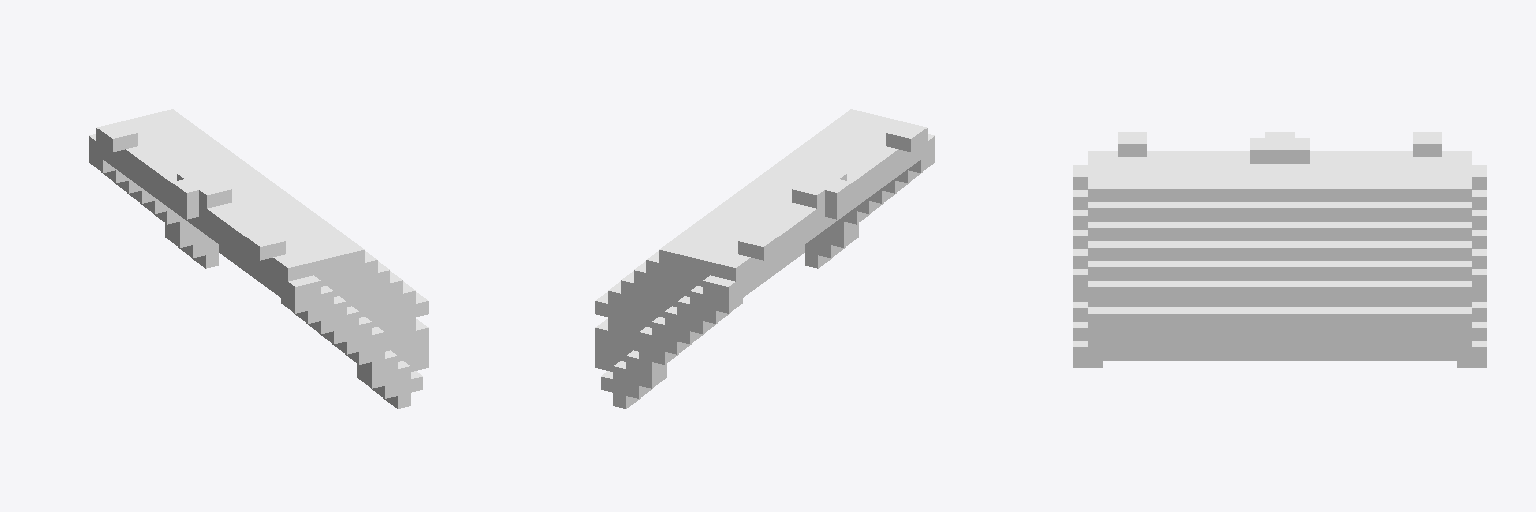
File: vox-64-ChestHood_Open.obj
The picture shows the model from 3 angles: view 1: azimuth 30°, elevation 25°; view 2: azimuth 150°, elevation 25°; view 3: azimuth 270°, elevation 25°; orthographic projection.
Parts seen in each view (by area): view 1: ChestHood_Open; view 2: ChestHood_Open; view 3: ChestHood_Open.
Boxes of the visible parts, x1,y1,x2,y2 form: ChestHood_Open: [89, 109, 428, 408]; ChestHood_Open: [595, 109, 934, 408]; ChestHood_Open: [1073, 132, 1486, 367].
Size of the model in its own units: 1.2 by 1.3 by 2.8.